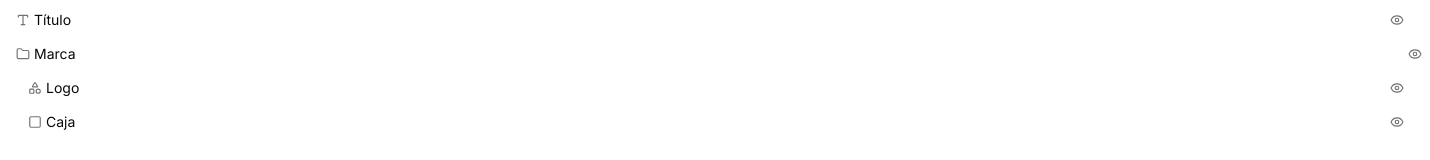
Test case: PanelCapas › doble clic renombra con Enter
Double-click the option "Título".
double_click(53, 20)  # box [16,11,1404,28]
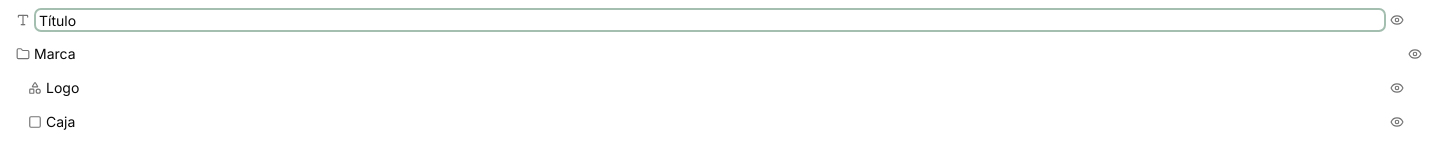
Replace the text in the field named "Nombre de la capa" with "  Encabezado  " at (710, 20), box [34,8,1386,32]
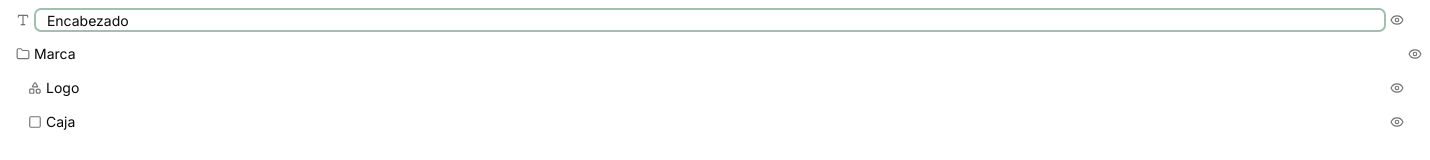
Press Enter in the field named "Nombre de la capa", box [34,8,1386,32]
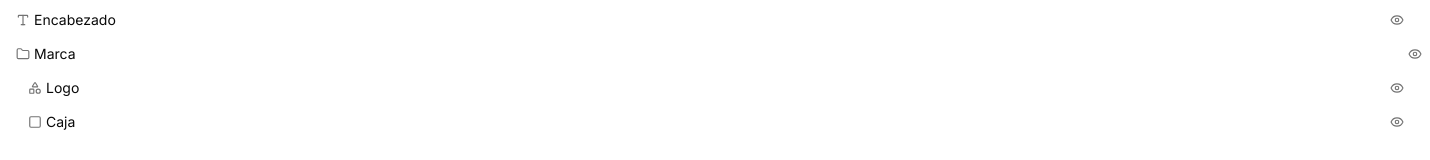
expect the text "Encabezado" is shown: met, box [34,11,116,28]
